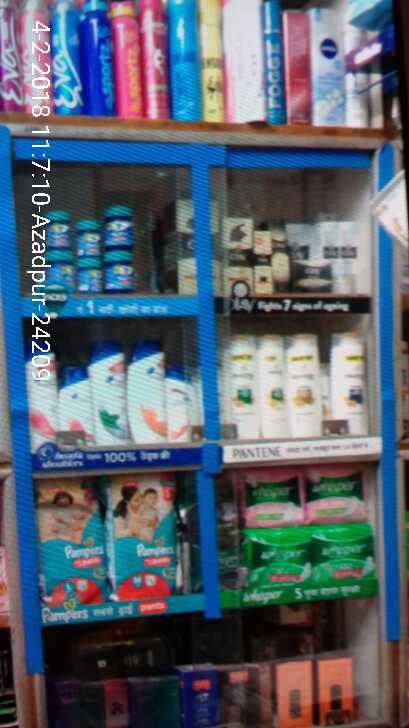vicks: (42, 201, 141, 297)
